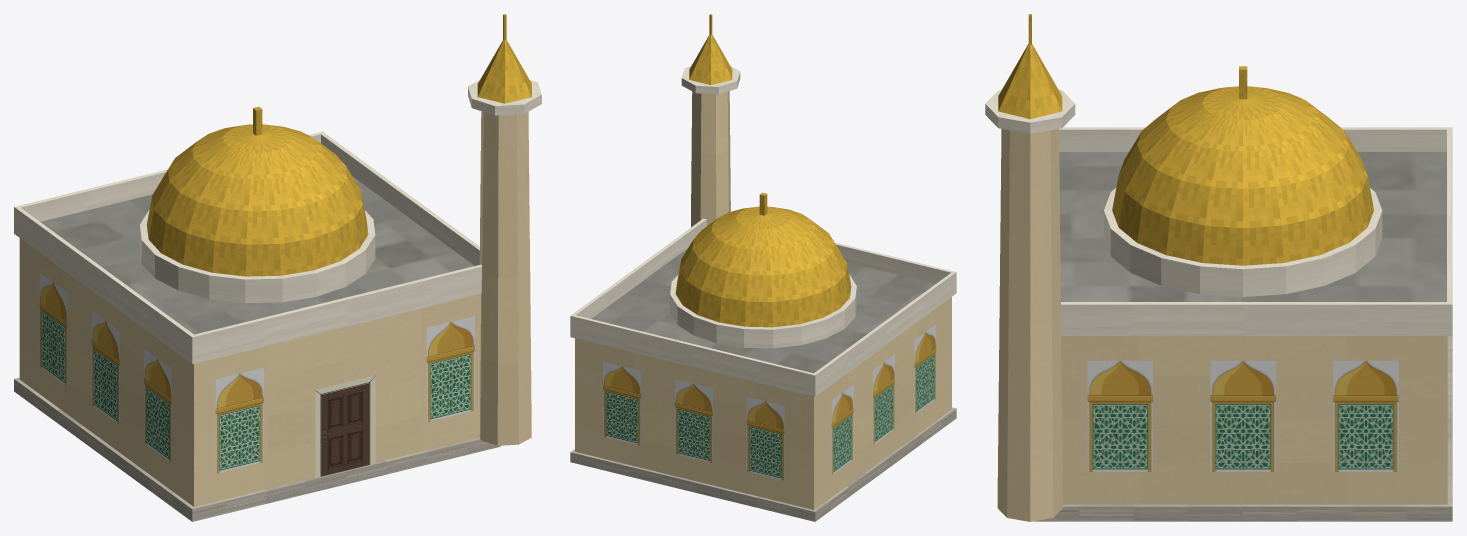
File: mosque-cream.glb
3 renders of one model, left to right at view 1: azimuth 30°, elevation 25°; view 2: azimuth 150°, elevation 25°; view 3: azimuth 270°, elevation 25°, orthographic. The views are drawn at different scales.
Parts seen in each view (by area): view 1: mosque-cream; view 2: mosque-cream; view 3: mosque-cream.
Part boxes in pixels (<box>): mosque-cream: <box>14,14,541,521</box>; mosque-cream: <box>570,14,956,521</box>; mosque-cream: <box>985,14,1452,521</box>.
Bounding box in the file's own units: 11.42 × 13.7 × 11.42.
Materials: 1 (1 with a texture image).
